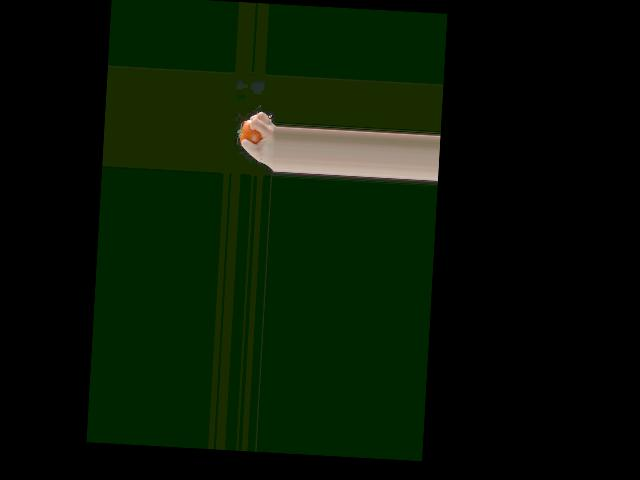tomato: (240, 119, 262, 144)
